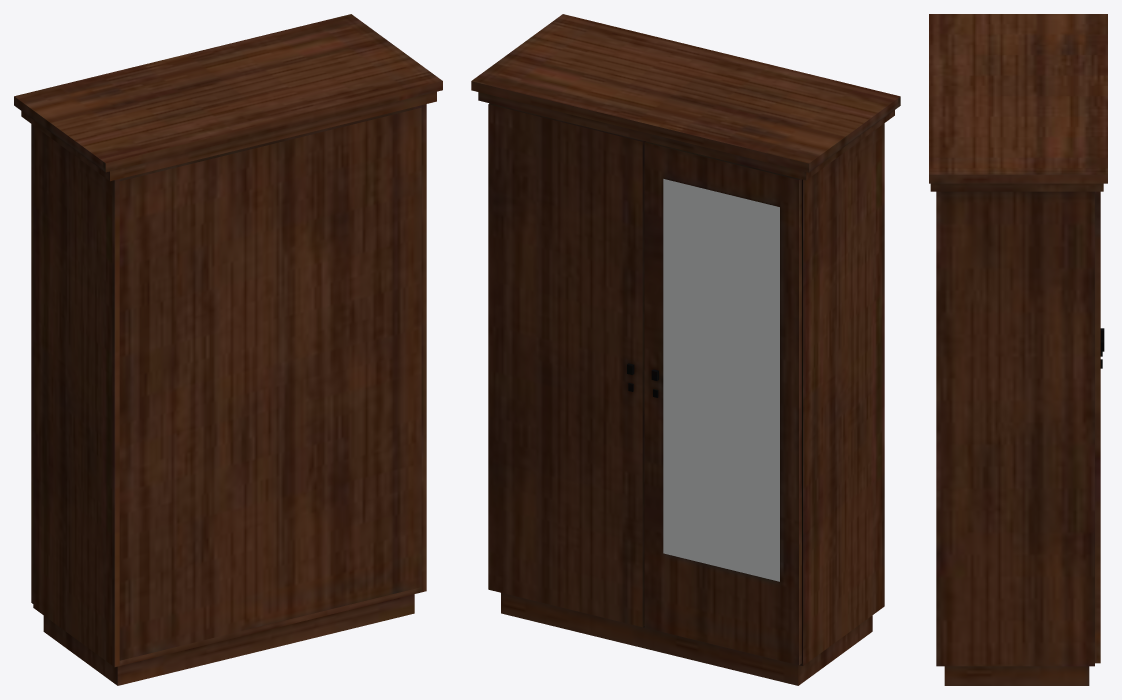
The model's file is wardrobe_mirror_lod1_web.glb.
3 renders of one model, left to right at view 1: azimuth 30°, elevation 25°; view 2: azimuth 150°, elevation 25°; view 3: azimuth 270°, elevation 25°, orthographic. The views are drawn at different scales.
Visible parts, largest first — view 1: WardrobeMirror_Body, Door_R_Mesh; view 2: WardrobeMirror_Body, Door_L_Mesh, Mirror_R, Door_R_Mesh; view 3: WardrobeMirror_Body, Door_L_Mesh.
Boxes of the visible parts, bbox=[...] form: WardrobeMirror_Body: bbox=[14, 14, 442, 685]; Door_R_Mesh: bbox=[31, 124, 33, 603]; WardrobeMirror_Body: bbox=[471, 14, 900, 685]; Door_L_Mesh: bbox=[488, 103, 645, 627]; Mirror_R: bbox=[663, 179, 779, 581]; Door_R_Mesh: bbox=[644, 141, 801, 665]; WardrobeMirror_Body: bbox=[929, 14, 1107, 685]; Door_L_Mesh: bbox=[1095, 191, 1104, 663].
Bounding box in the file's own units: 1.34 × 2.02 × 0.63.
Materials: 2 (1 with a texture image).
